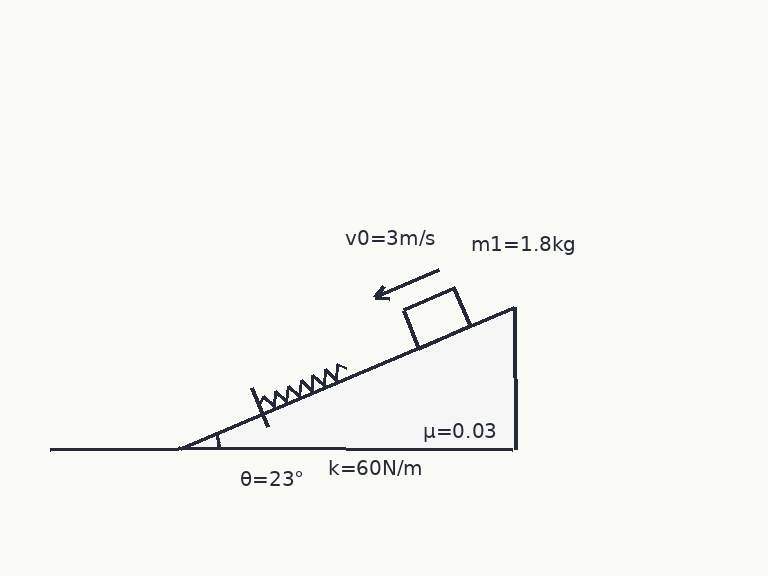block: (401, 286, 472, 349)
ramp: (177, 305, 516, 451)
spring: (257, 362, 348, 408)
